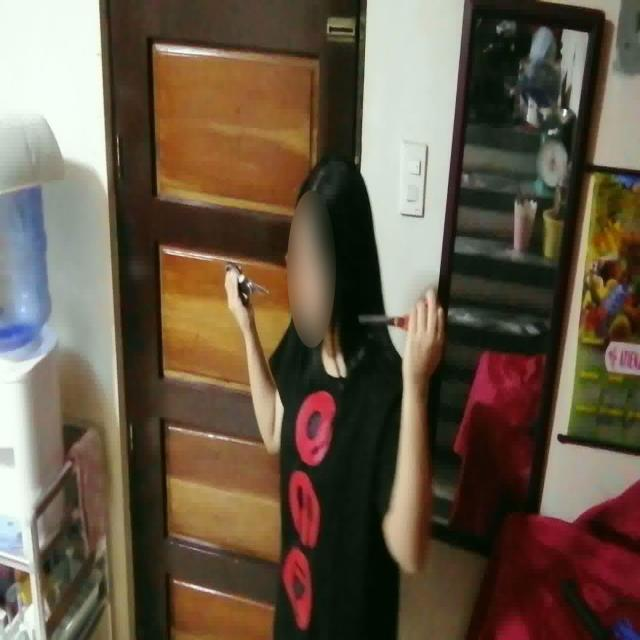scissor: (360, 297, 434, 337), (225, 262, 269, 308)
